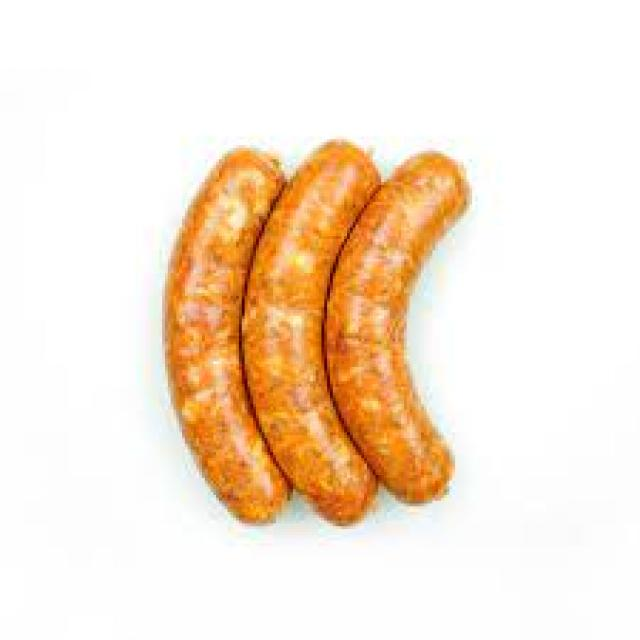sausage: (154, 125, 489, 549)
